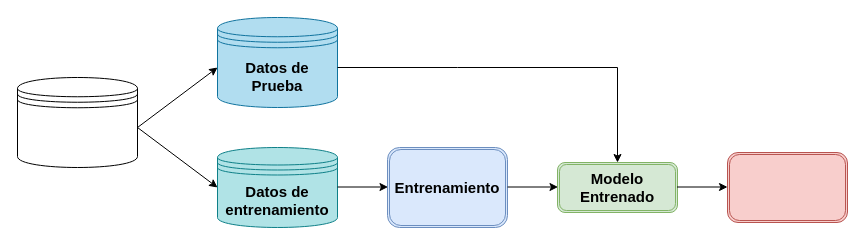
Some shapes in this 865 by 252 pixel diagram are drawn without their labels. Here are the shapes that lost their labels. From the top down, the box of each, then its label:
(16, 76, 138, 168): Datos de entrada
(726, 152, 848, 222): Evaluación final del Rendimiento
